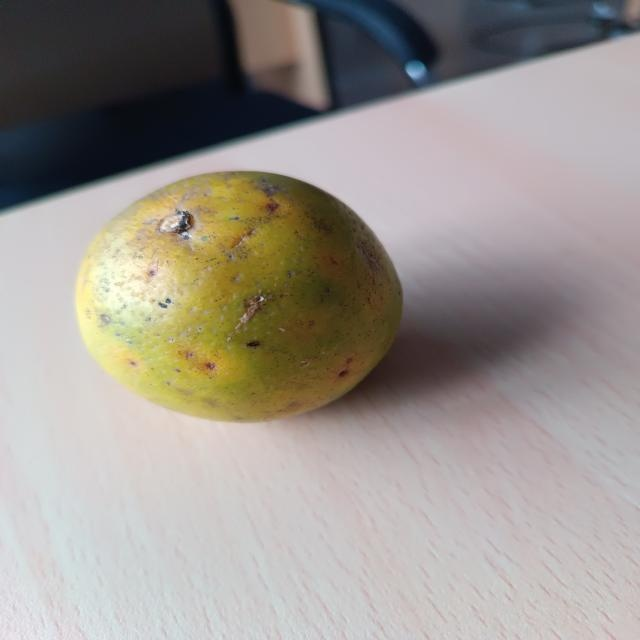agrume: (69, 171, 407, 426)
